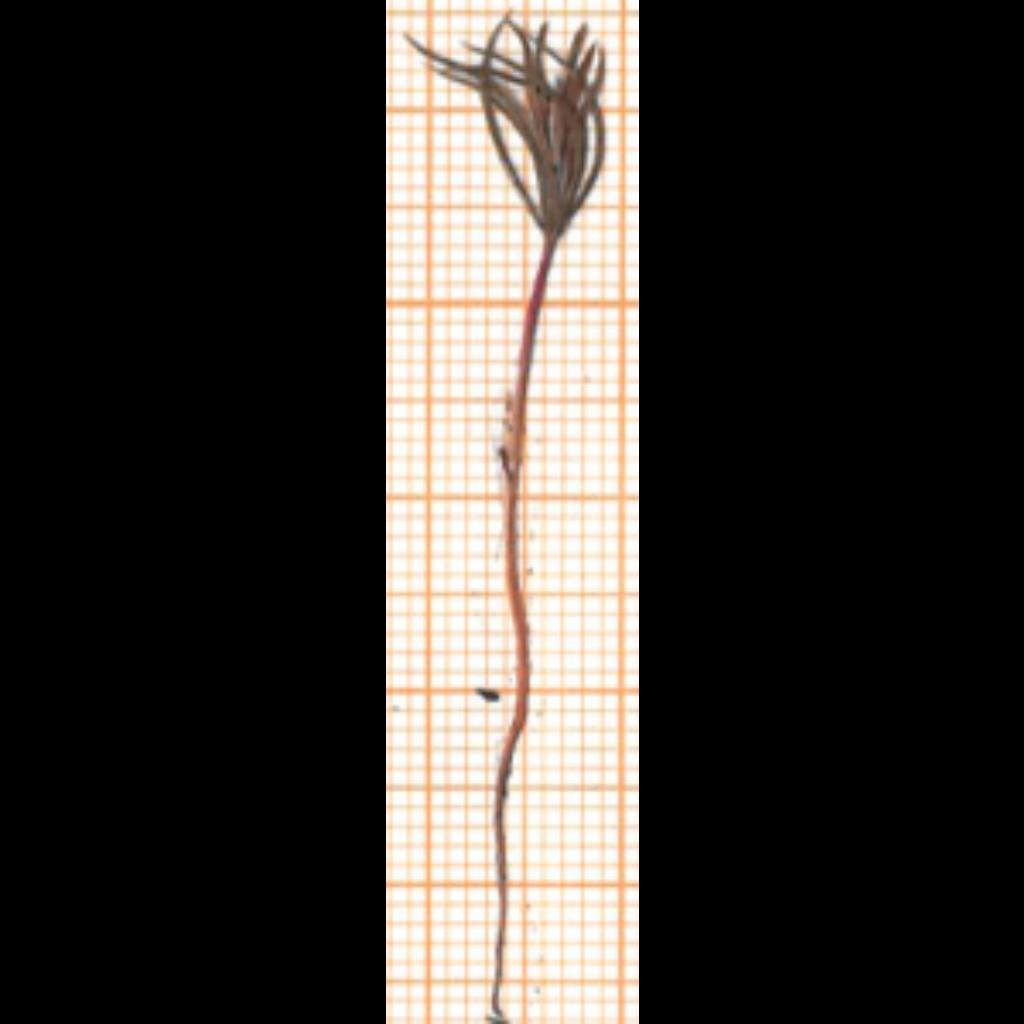flowerPinus: (414, 18, 604, 236)
rootPinus: (492, 689, 529, 1020)
stemPinus: (506, 237, 553, 702)
